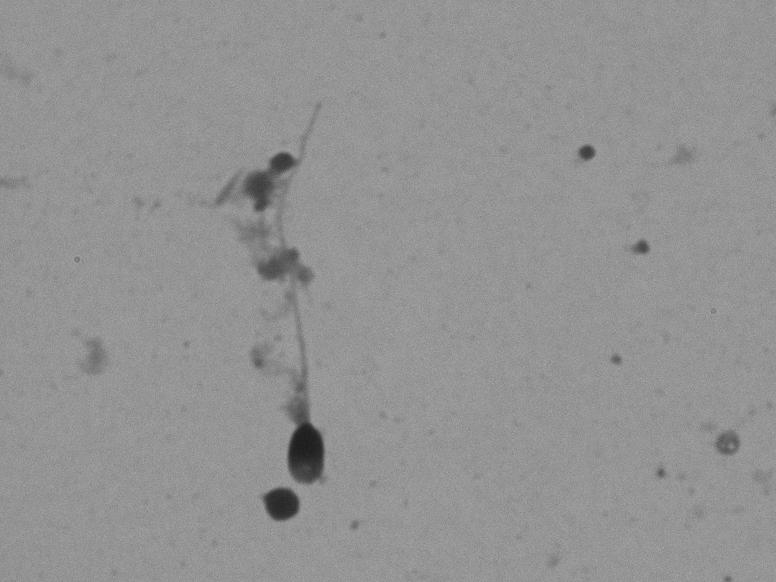Abnormal: (247, 85, 373, 489)
